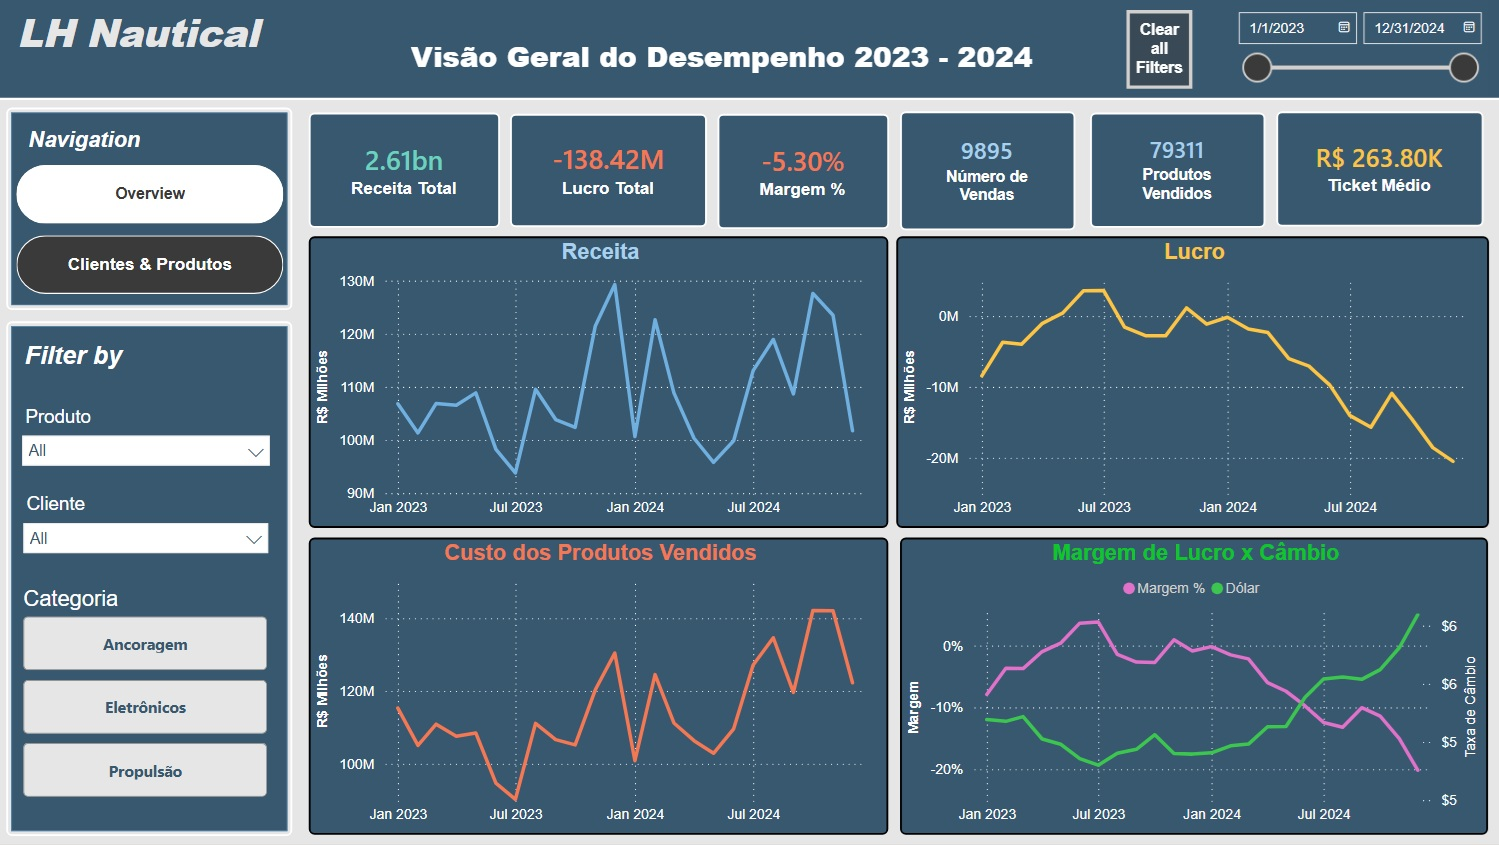

What the dashboard file says about the page in this screenshot:
{"tool":"powerbi","page":{"name":"Overview","canvas":[1280,720],"ordinal":0},"visuals":[{"type":"shape","box":[0,0,1279.8,84.7],"z":0},{"type":"shape","box":[4.9,92,244.2,173],"z":1000},{"type":"shape","box":[4.9,273.6,244.2,439.3],"z":2000},{"type":"cardVisual","fields":{"Data":["_Measures.Receita Total"]},"box":[263.8,95.7,163.2,98.2],"z":3000},{"type":"cardVisual","fields":{"Data":["_Measures.Lucro"]},"box":[435.6,96.9,168.1,96.9],"z":4000},{"type":"cardVisual","fields":{"Data":["_Measures.Margem %"]},"box":[612.3,96.9,146,98.2],"z":5000},{"type":"cardVisual","fields":{"Data":["_Measures.Número de Vendas"]},"box":[768.1,94.5,149.7,101.8],"z":6000},{"type":"cardVisual","fields":{"Data":["_Measures.Produtos Vendidos"]},"box":[930.1,95.7,149.7,98.2],"z":7000},{"type":"cardVisual","fields":{"Data":["_Measures.Ticket Médio"]},"box":[1088.3,94.5,176.7,98.2],"z":8000},{"type":"lineChart","title":"Receita","fields":{"Y":["Sum(fact_sales_enriched.total)"],"Category":["fact_sales_enriched.sale_date.Variation.Date Hierarchy.Year","fact_sales_enriched.sale_date.Variation.Date Hierarchy.Quarter","fact_sales_enriched.sale_date.Variation.Date Hierarchy.Month","fact_sales_enriched.sale_date.Variation.Date Hierarchy.Day"]},"box":[263.8,201.2,494.5,249.1],"z":9000},{"type":"slicer","title":"Produto","fields":{"Values":["dim_product.name"]},"box":[8.6,341.1,231.9,74.8],"z":10000},{"type":"advancedSlicerVisual","title":"Categoria","fields":{"Values":["dim_product.category"]},"box":[14.7,500.6,218.4,185.3],"z":11000},{"type":"slicer","title":"Post Type","fields":{"Values":["dim_customer.name"]},"box":[9.8,416,229.4,65],"z":12000},{"type":"pageNavigator","box":[13.5,141.1,228.2,110.4],"z":13000},{"type":"textbox","box":[16,287.1,109.2,35.6],"z":14000},{"type":"slicer","fields":{"Values":["dim_date.Date"]},"box":[1044.2,0,225.8,84.7],"z":15000},{"type":"shape","box":[0,76.1,1279.8,17.2],"z":16000},{"type":"textbox","box":[19.6,103.1,150.9,35.6],"z":17000},{"type":"textbox","box":[9.8,0,279.8,66.3],"z":18000},{"type":"actionButton","title":"Clear All Filters","box":[960.7,8.6,56.4,67.5],"z":19000},{"type":"lineChart","title":"Lucro","fields":{"Y":["Sum(fact_sales_enriched.lucro)"],"Category":["fact_sales_enriched.sale_date.Variation.Date Hierarchy.Year","fact_sales_enriched.sale_date.Variation.Date Hierarchy.Quarter","fact_sales_enriched.sale_date.Variation.Date Hierarchy.Month","fact_sales_enriched.sale_date.Variation.Date Hierarchy.Day"]},"box":[764.4,201.2,505.5,249.1],"z":20000},{"type":"lineChart","title":"Margem de Lucro x Câmbio","fields":{"Y":["_Measures.Margem %"],"Y2":["Avg(dim_exchange_rate.usd_to_brl)"],"Category":["dim_date.Date.Variation.Date Hierarchy.Year","dim_date.Date.Variation.Date Hierarchy.Quarter","dim_date.Date.Variation.Date Hierarchy.Month","dim_date.Date.Variation.Date Hierarchy.Day"]},"box":[768.1,458.9,501.8,254],"z":21000},{"type":"lineChart","title":"Custo dos Produtos Vendidos","fields":{"Category":["fact_sales_enriched.sale_date.Variation.Date Hierarchy.Year","fact_sales_enriched.sale_date.Variation.Date Hierarchy.Quarter","fact_sales_enriched.sale_date.Variation.Date Hierarchy.Month","fact_sales_enriched.sale_date.Variation.Date Hierarchy.Day"],"Y":["Sum(fact_sales_enriched.custo_total_brl)"]},"box":[263.8,458.9,494.5,254],"z":22000},{"type":"textbox","box":[346,25.8,562,66.3],"z":23000}]}

Visuals, with their boxes in screenshot pixels (x1, y1, x2, y2), scaled from the page's 1280x720 canvas onto the 1499x845 screenshot:
shape: (0, 0, 1498, 99)
shape: (6, 108, 292, 311)
shape: (6, 321, 292, 837)
cardVisual - _Measures.Receita Total: (309, 112, 500, 228)
cardVisual - _Measures.Lucro: (510, 114, 707, 227)
cardVisual - _Measures.Margem %: (717, 114, 888, 229)
cardVisual - _Measures.Número de Vendas: (900, 111, 1075, 230)
cardVisual - _Measures.Produtos Vendidos: (1089, 112, 1265, 228)
cardVisual - _Measures.Ticket Médio: (1275, 111, 1481, 226)
"Receita" lineChart: (309, 236, 888, 528)
"Produto" slicer: (10, 400, 282, 488)
"Categoria" advancedSlicerVisual: (17, 588, 273, 805)
"Post Type" slicer: (11, 488, 280, 565)
pageNavigator: (16, 166, 283, 295)
textbox: (19, 337, 147, 379)
slicer - dim_date.Date: (1223, 0, 1487, 99)
shape: (0, 89, 1498, 109)
textbox: (23, 121, 200, 163)
textbox: (11, 0, 339, 78)
"Clear All Filters" actionButton: (1125, 10, 1191, 89)
"Lucro" lineChart: (895, 236, 1487, 528)
"Margem de Lucro x Câmbio" lineChart: (900, 539, 1487, 837)
"Custo dos Produtos Vendidos" lineChart: (309, 539, 888, 837)
textbox: (405, 30, 1063, 108)
